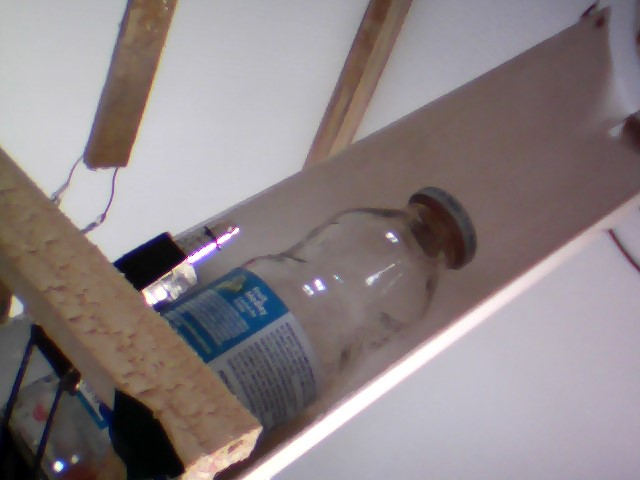vidrio: (167, 178, 494, 429)
